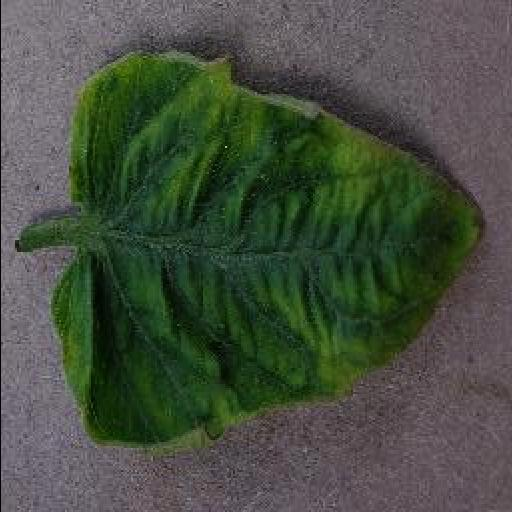disease_tomato: (54, 46, 484, 450)
